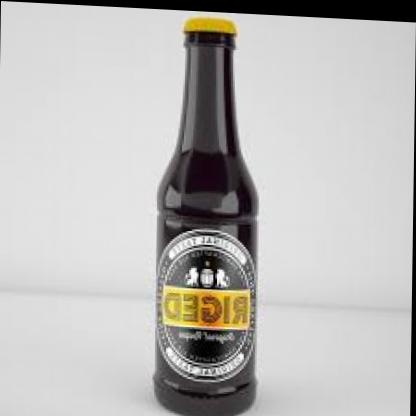trash: (154, 17, 256, 415)
